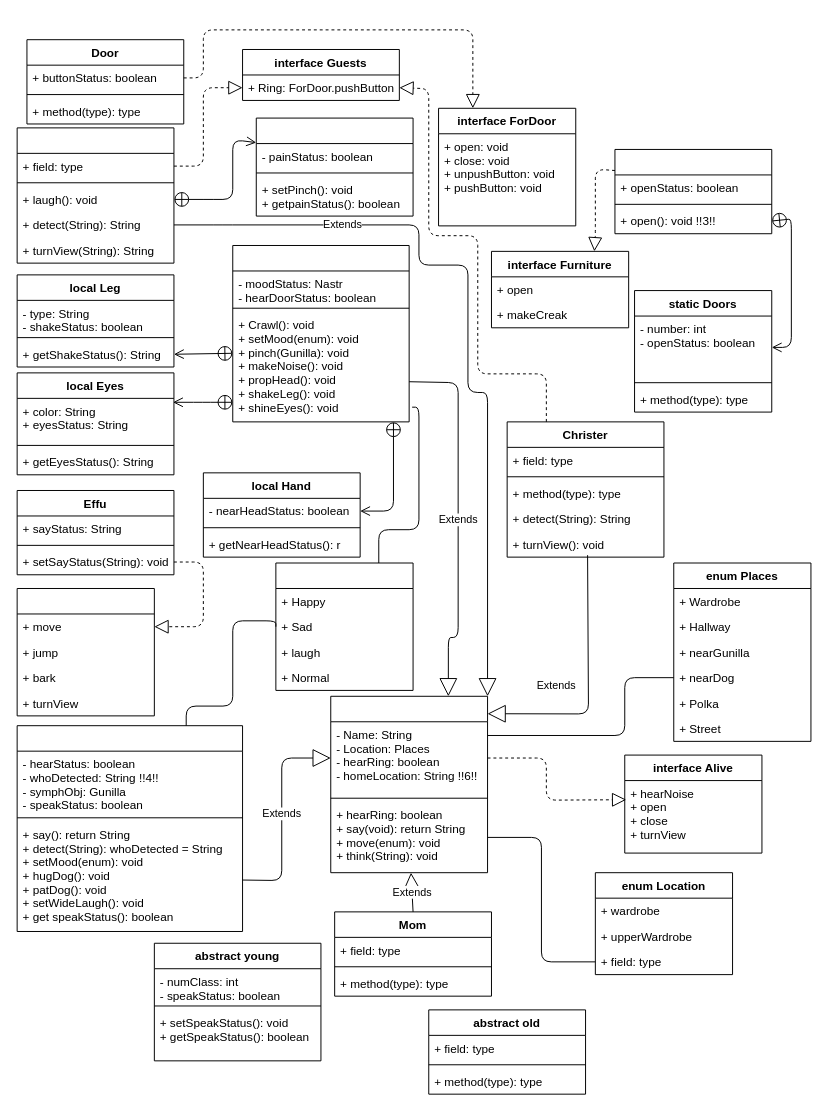
Image size: 828x1114. Some labels were removed from this diagram. Each missing label, with the box of its shape:
abstract Human: (330, 695, 488, 873)
enum Nastr: (275, 562, 413, 690)
Gunilla: (16, 127, 174, 263)
interface Dog: (16, 588, 154, 716)
Karlson: (232, 245, 409, 422)
local Cheek: (255, 117, 413, 216)
Malish: (16, 725, 243, 931)
Wardrobe: (614, 148, 772, 234)
